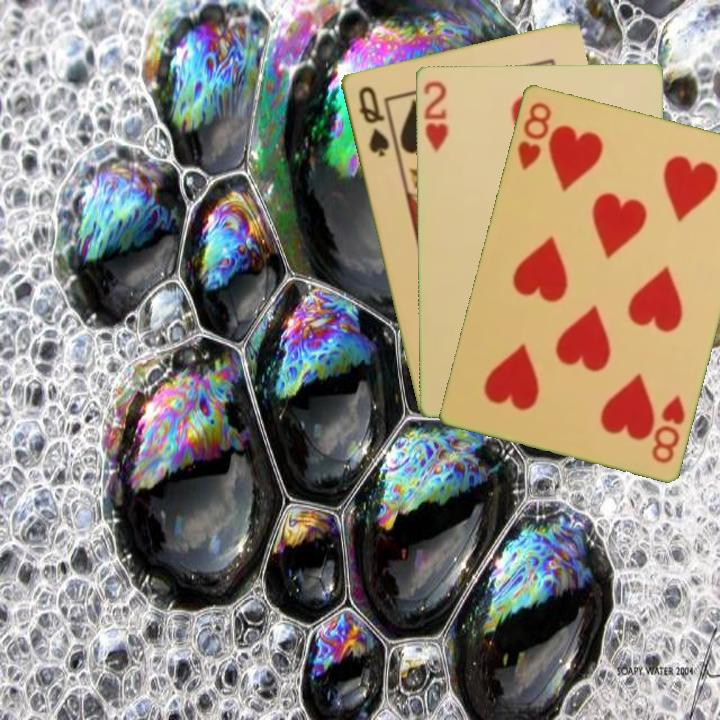2h: (420, 77, 451, 155)
8h: (513, 98, 554, 173), (648, 390, 688, 466)
Qs: (354, 82, 392, 160)
